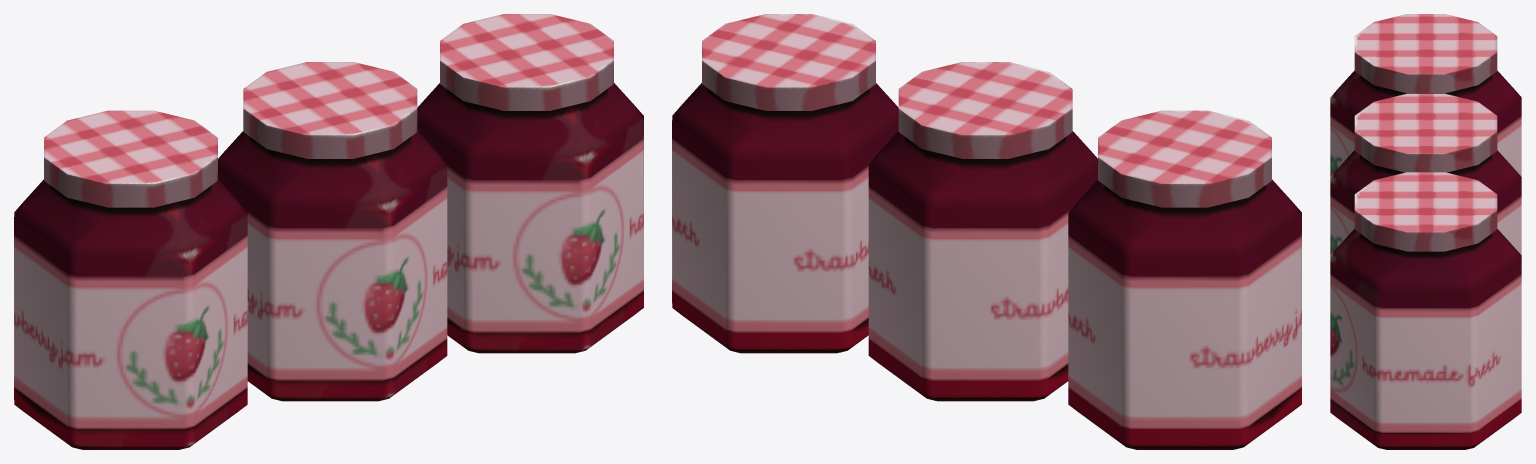
Rendered from jam.fbx.
3 views of the same model, side by side, from view 1: azimuth 30°, elevation 25°; view 2: azimuth 150°, elevation 25°; view 3: azimuth 270°, elevation 25° (orthographic). The views are drawn at different scales.
Visible parts, largest first — view 1: jam; view 2: jam; view 3: jam.
Boxes of the visible parts, bbox=[...] form: jam: bbox=[14, 14, 643, 449]; jam: bbox=[672, 14, 1301, 449]; jam: bbox=[1330, 14, 1521, 449].
Size of the model in its own units: 49.45 by 21.5 by 17.35.
1 material, 1 textured.
